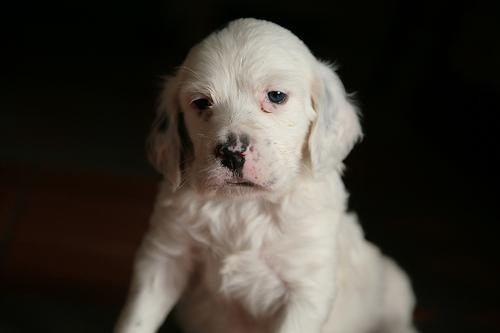dog-english_setter: (147, 17, 360, 190)
